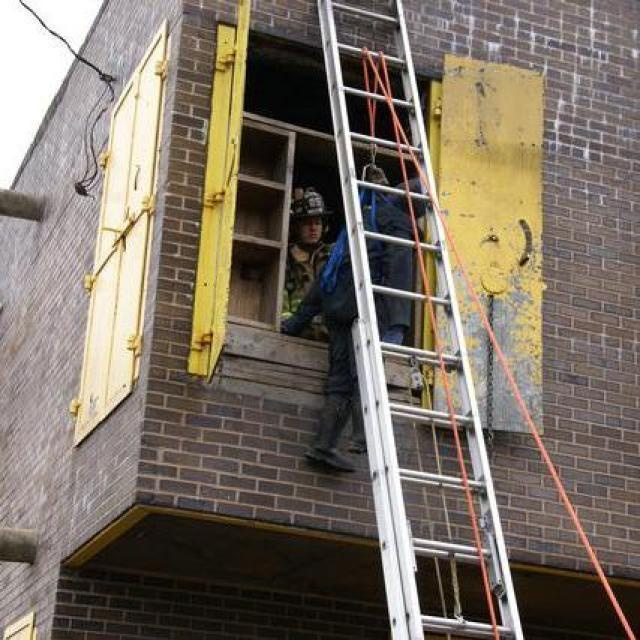Arnes_seguridad: (327, 180, 402, 296)
